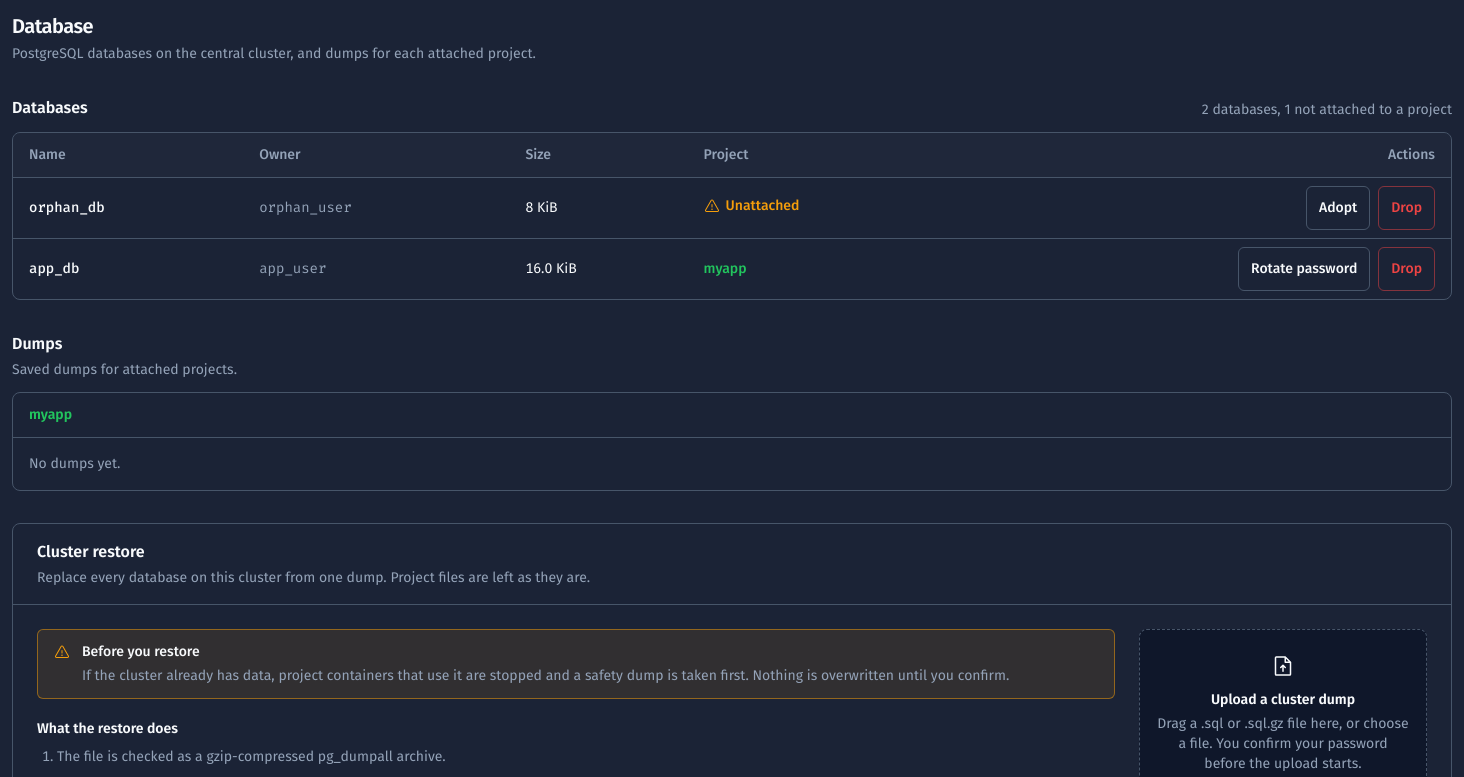
Test: DatabasePage › keeps drop disabled until the typed name matches
Expected: the text "orphan_db" is shown, x1=13 y1=178 x2=243 y2=238
Click the button "Drop" in the row of "orphan_db" at (1407, 208), box x1=1378 y1=186 x2=1435 y2=230
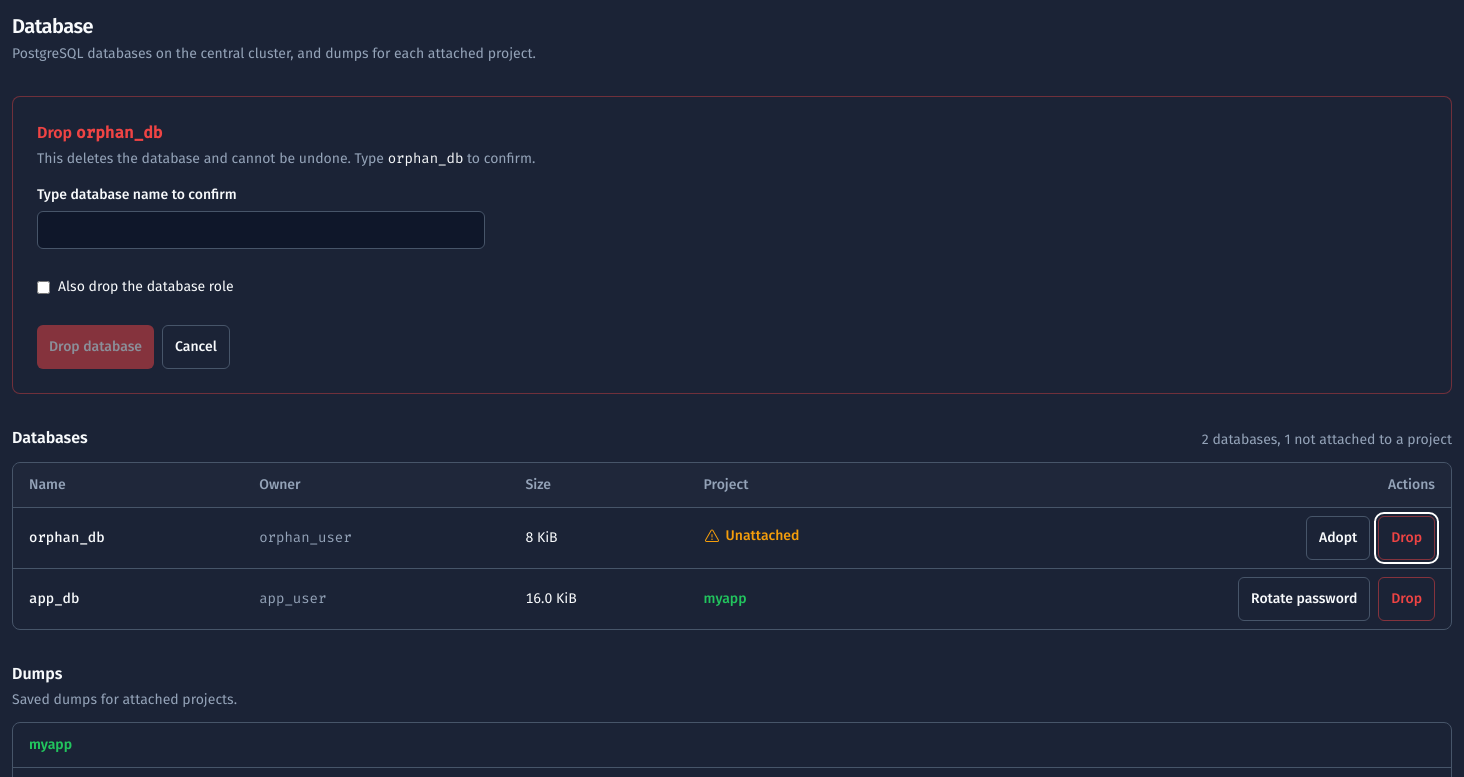
Expected: the button "Drop database" is disabled, x1=37 y1=325 x2=154 y2=369
Type "wrong" into the field labelled "Type database name to confirm" at (261, 230), box x1=37 y1=211 x2=485 y2=249
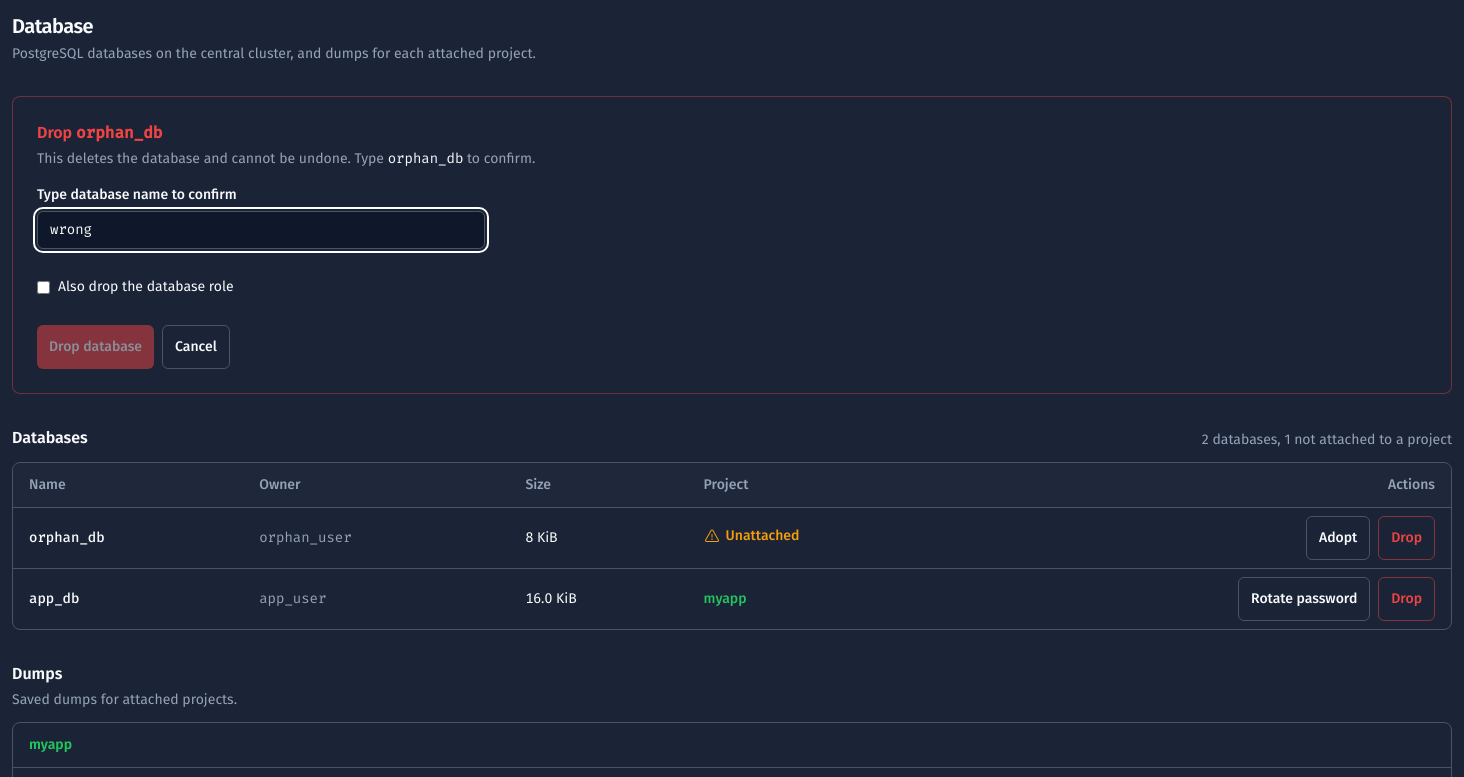
Expected: the button "Drop database" is disabled, x1=37 y1=325 x2=154 y2=369
Replace the text in the field labelled "Type database name to confirm" with "orphan_db" at (261, 230), box x1=37 y1=211 x2=485 y2=249
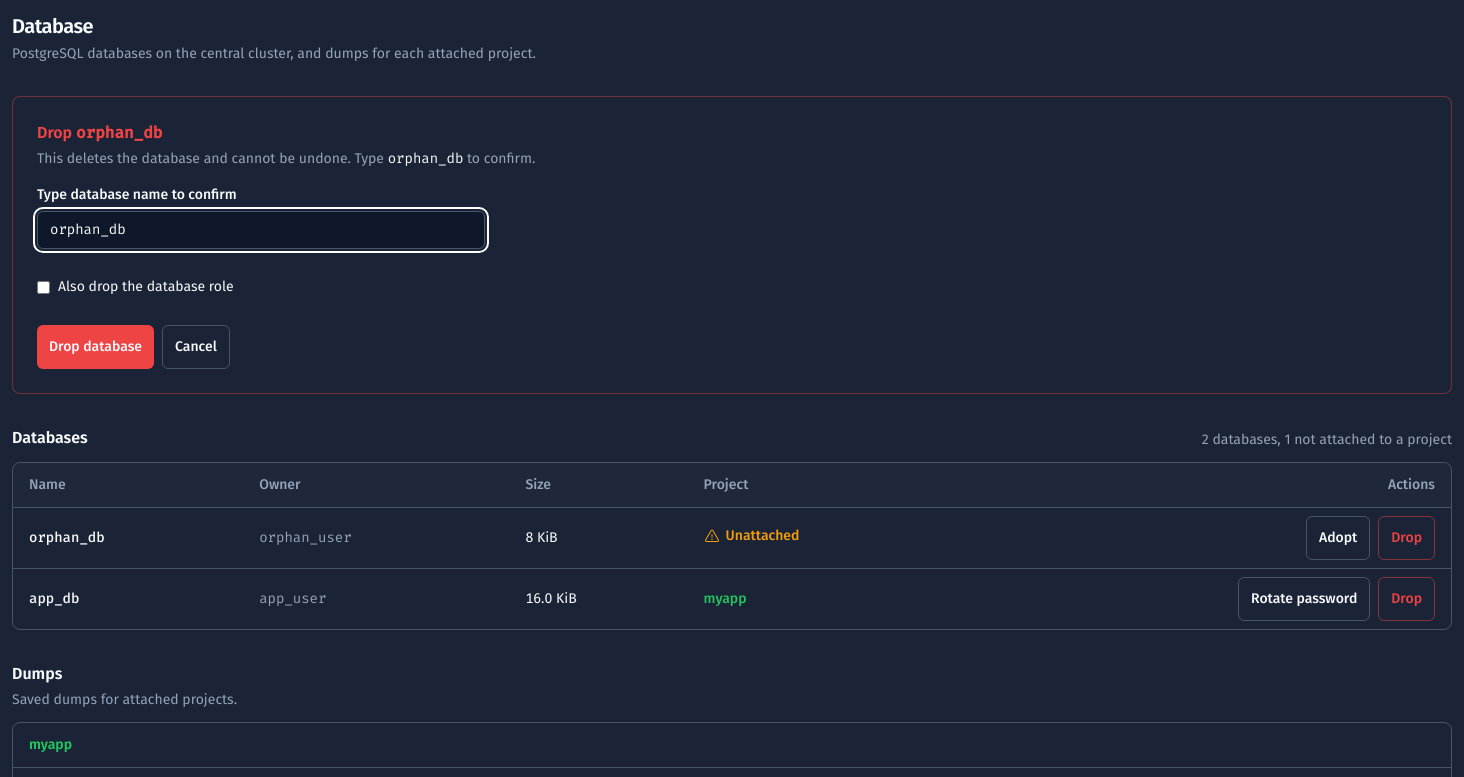
Expected: the button "Drop database" is enabled, x1=37 y1=325 x2=154 y2=369
